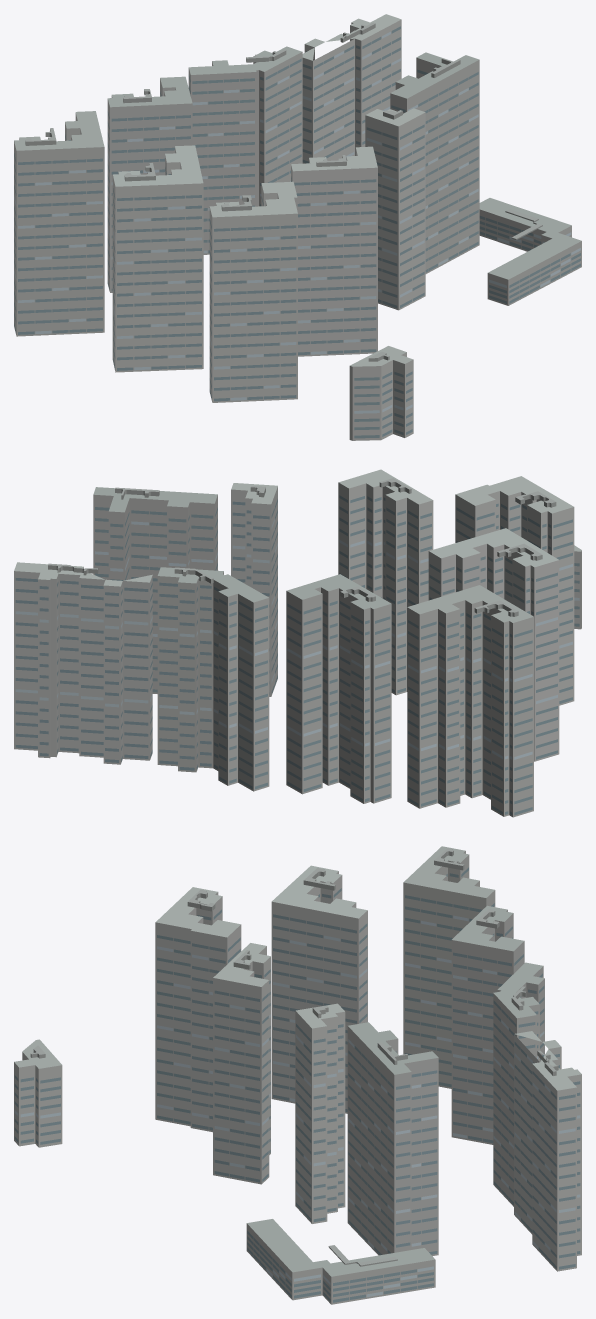
Rendered from apt-a10024240.glb.
3 renders of one model, top to bottom at view 1: azimuth 30°, elevation 25°; view 2: azimuth 150°, elevation 25°; view 3: azimuth 270°, elevation 25°, orthographic. The views are drawn at different scales.
Visible parts, largest first — view 1: apt-a10024240; view 2: apt-a10024240; view 3: apt-a10024240.
Part boxes in pixels (bbox=[...]): apt-a10024240: bbox=[14, 14, 581, 440]; apt-a10024240: bbox=[14, 469, 581, 817]; apt-a10024240: bbox=[14, 846, 581, 1304].
Size of the model in its own units: 305 by 110 by 281.
